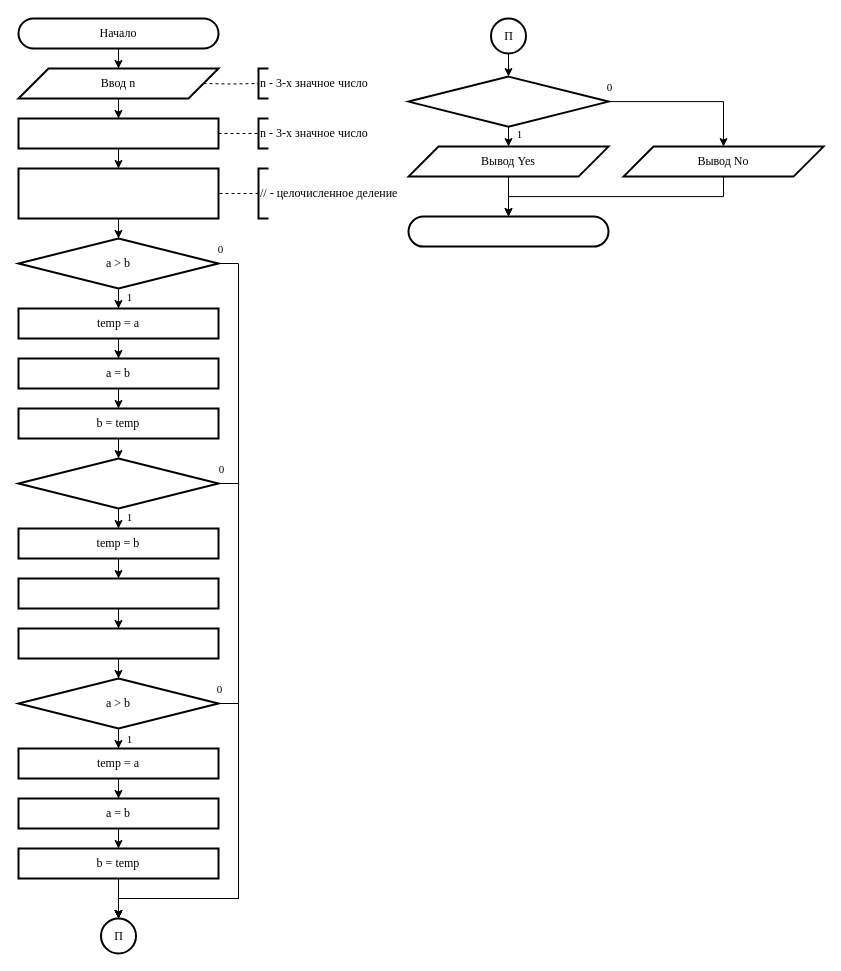
This 841x971 diagram has some shape labels left out. Each missing label, with the centre of its shape:
"(a + c) // 2 < b" goes at [508,101].
"a = n // 100 b = (n // 10) % 10; c = n // 10;" goes at [118,193].
"b = c" goes at [118,593].
"b > c" goes at [118,483].
"c = temp" goes at [118,643].
"temp = 0" goes at [118,133].
"Конец" goes at [508,231].
